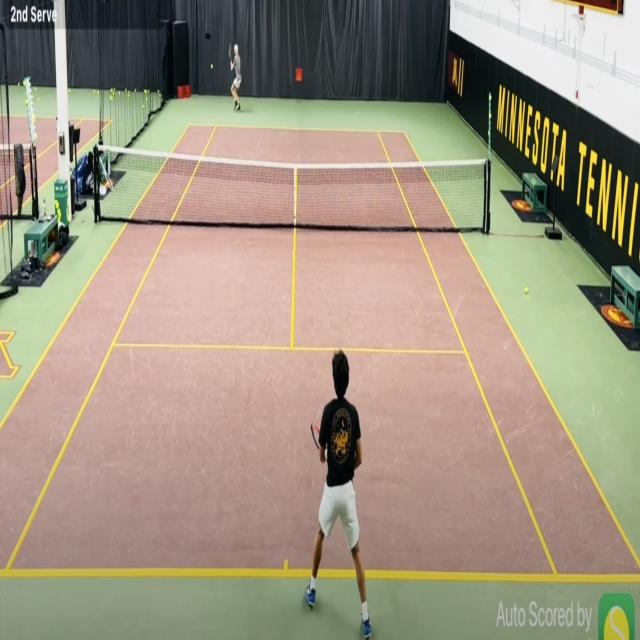ball: (210, 64, 213, 70)
